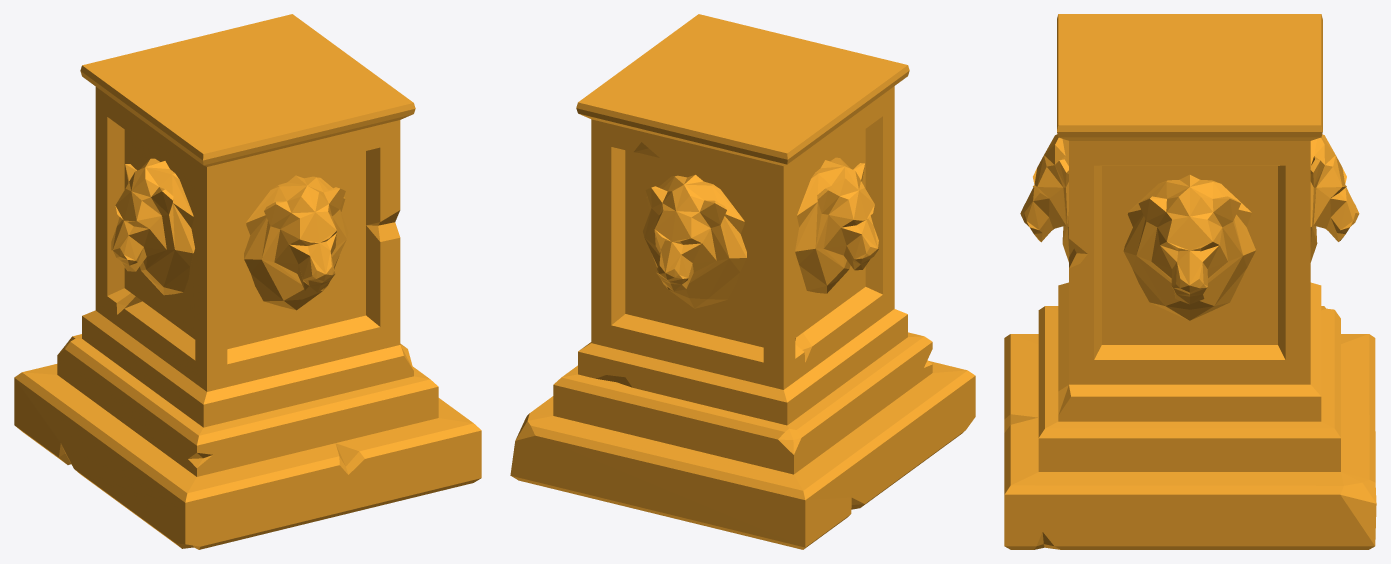
File: SM_Pedestal_Grand_A_Fantasy.fbx
3 views of the same model, side by side, from view 1: azimuth 30°, elevation 25°; view 2: azimuth 150°, elevation 25°; view 3: azimuth 270°, elevation 25° (orthographic). The views are drawn at different scales.
Visible parts, largest first — view 1: SM_Pedestal_Grand_Fantasy_A; view 2: SM_Pedestal_Grand_Fantasy_A; view 3: SM_Pedestal_Grand_Fantasy_A.
Part boxes in pixels (x1,y1,x2,y2): SM_Pedestal_Grand_Fantasy_A: (14, 14, 481, 549); SM_Pedestal_Grand_Fantasy_A: (510, 14, 975, 549); SM_Pedestal_Grand_Fantasy_A: (1004, 14, 1376, 549).
Size of the model in its own units: 1 by 1.2 by 1.
